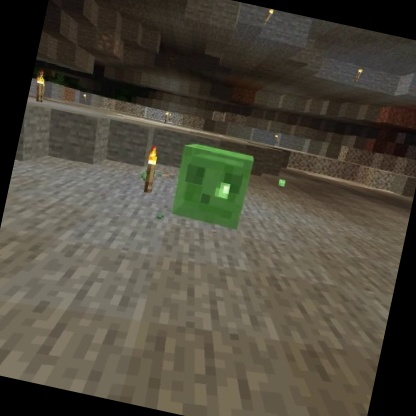slime: (166, 138, 258, 233)
